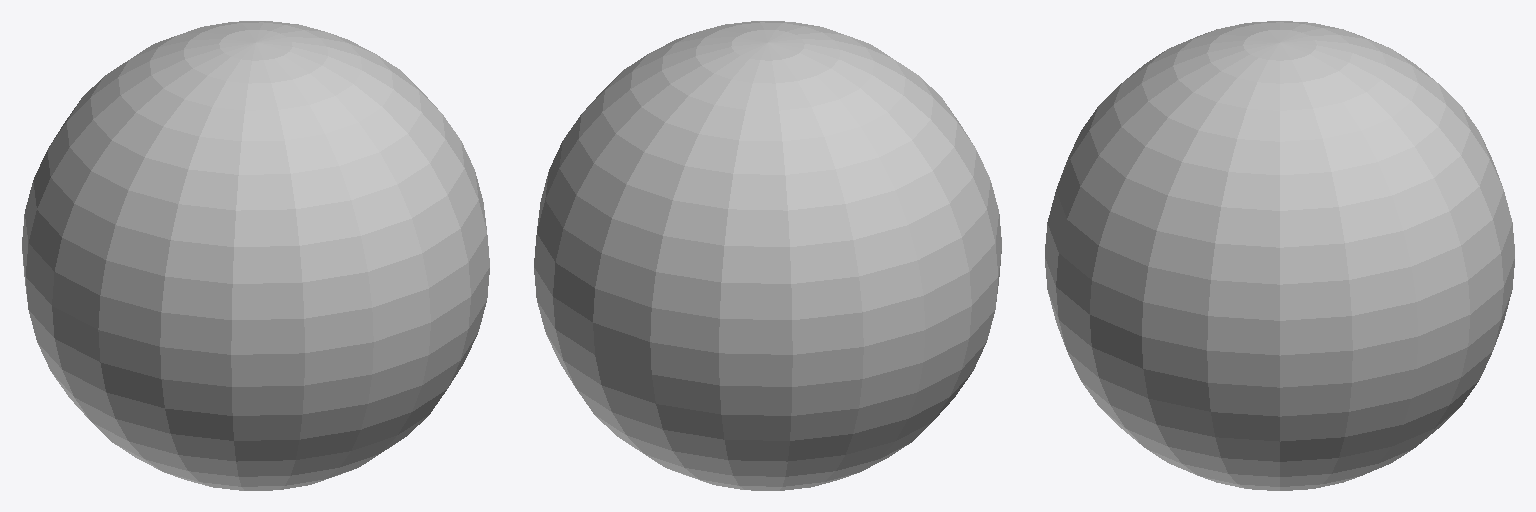
File: snitch low.OBJ
3 renders of one model, left to right at view 1: azimuth 30°, elevation 25°; view 2: azimuth 150°, elevation 25°; view 3: azimuth 270°, elevation 25°, orthographic.
Visible parts, largest first — view 1: pSphere1; view 2: pSphere1; view 3: pSphere1.
Boxes of the visible parts, x1,y1,x2,y2 form: pSphere1: [22, 21, 489, 490]; pSphere1: [534, 21, 1001, 490]; pSphere1: [1045, 21, 1514, 490].
Size of the model in its own units: 2.54 by 2.54 by 2.54.